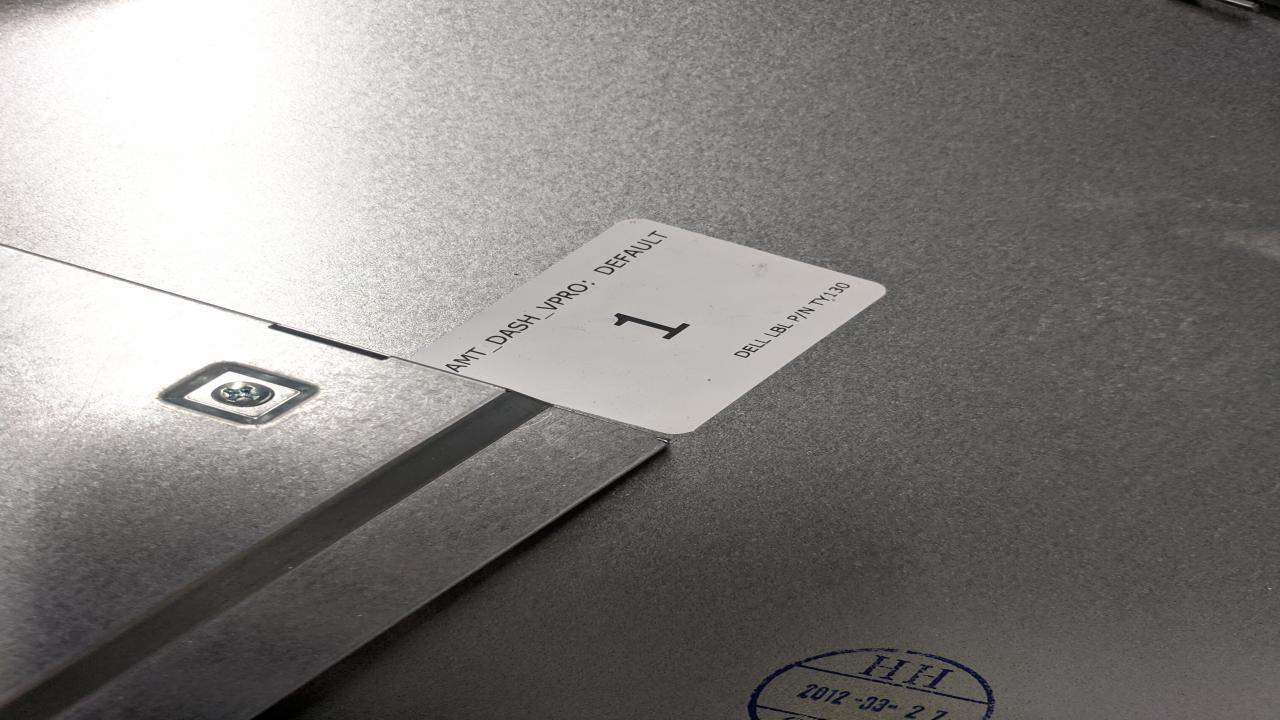CRS: (212, 381, 272, 407)
